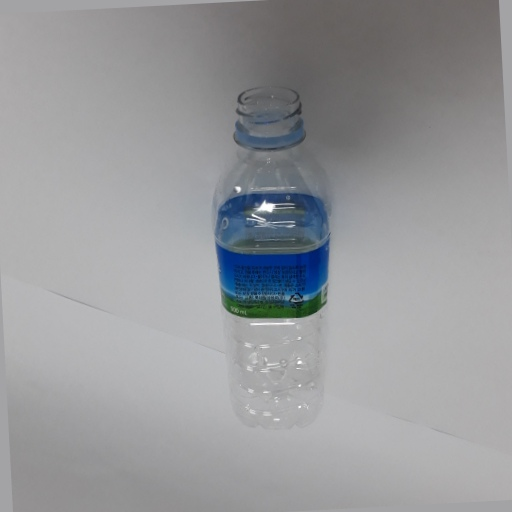Plastic_0: (213, 84, 336, 432)
